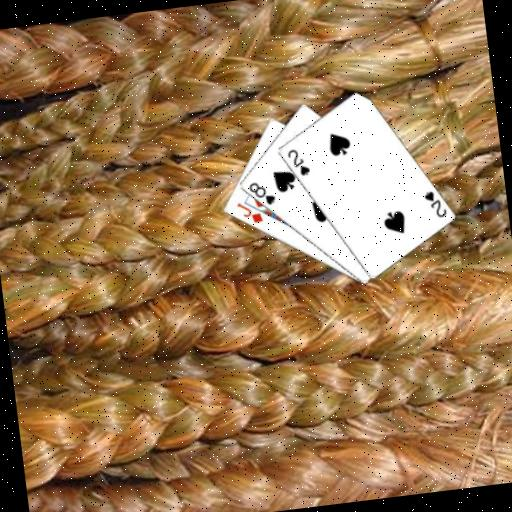2S: (284, 144, 313, 179), (420, 187, 449, 222)
8S: (245, 177, 278, 209)
JD: (233, 197, 265, 227)
